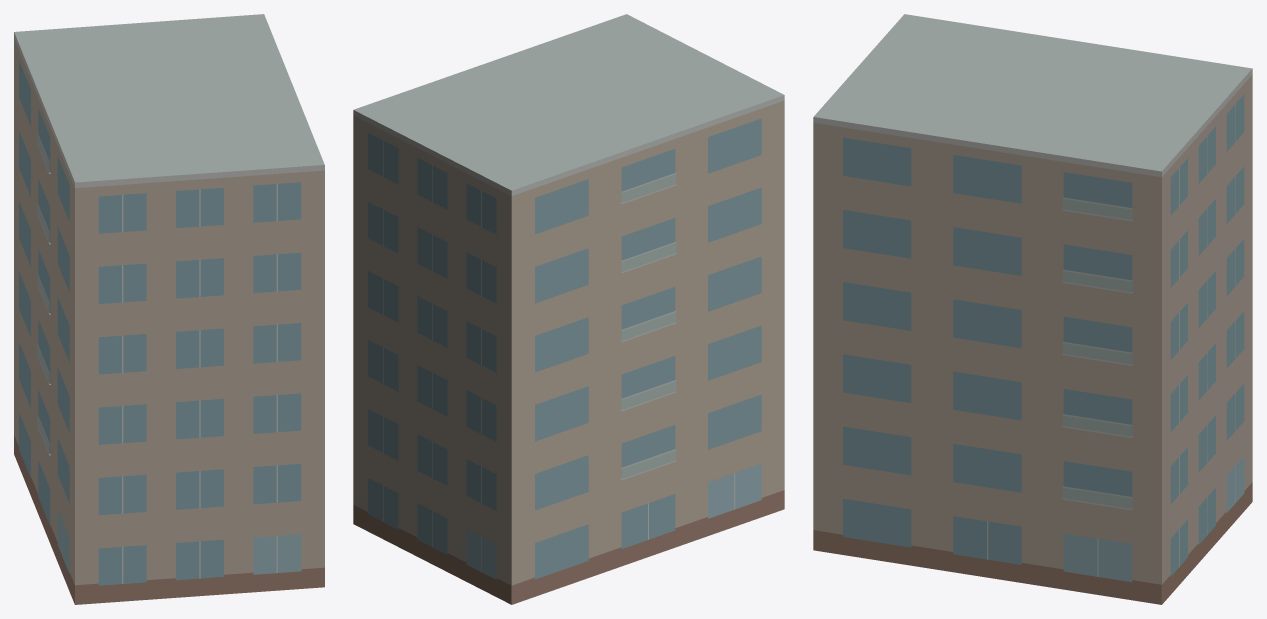
Rendered from survey-upis-32968213.glb.
3 renders of one model, left to right at view 1: azimuth 30°, elevation 25°; view 2: azimuth 150°, elevation 25°; view 3: azimuth 270°, elevation 25°, orthographic. The views are drawn at different scales.
Visible parts, largest first — view 1: survey-upis-32968213.tmp; view 2: survey-upis-32968213.tmp; view 3: survey-upis-32968213.tmp.
Part boxes in pixels (box(x1,y1,x2,y2)): survey-upis-32968213.tmp: box(14, 14, 324, 604); survey-upis-32968213.tmp: box(353, 14, 784, 604); survey-upis-32968213.tmp: box(813, 14, 1252, 604).
Bounding box in the file's own units: 14.27 × 18.3 × 16.82.
